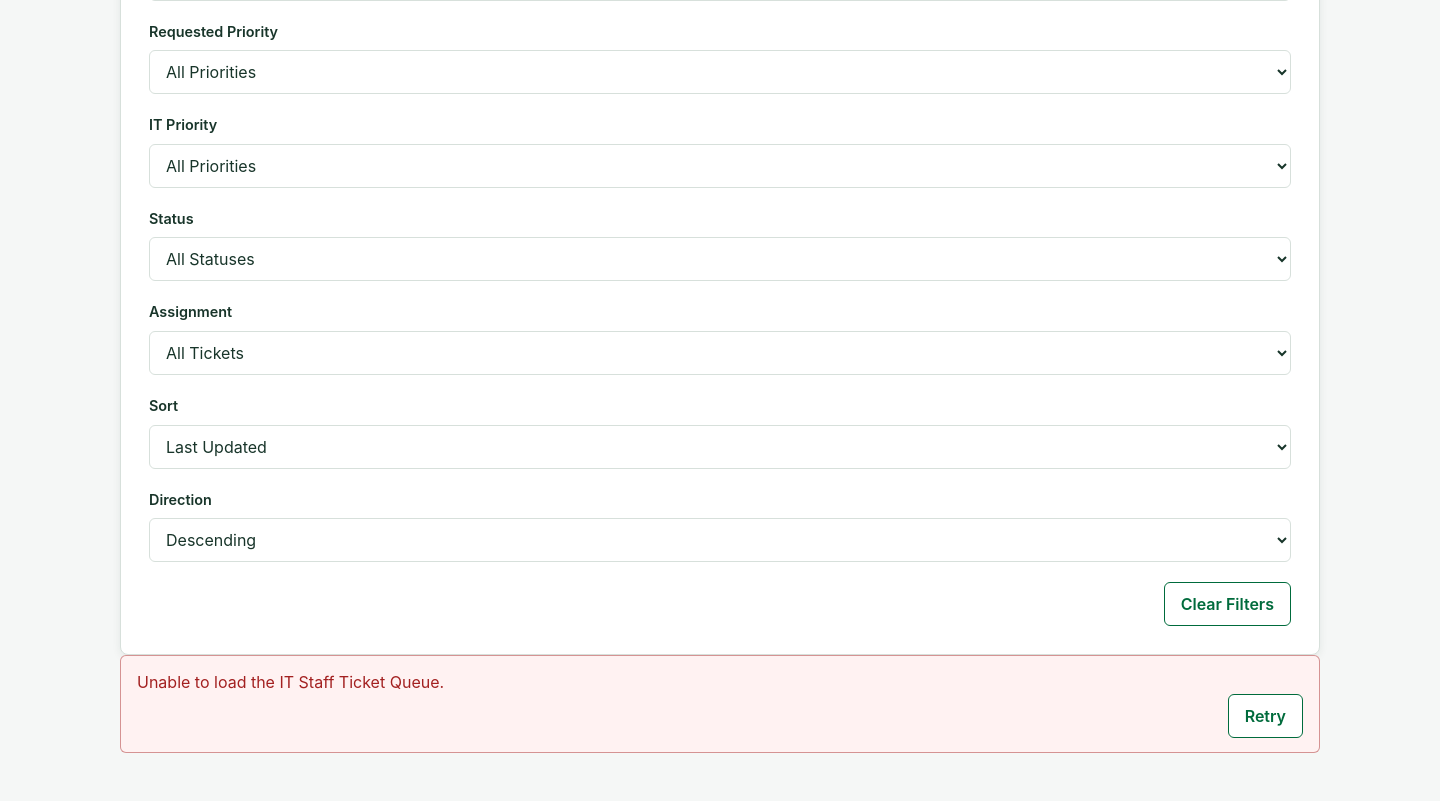
Test case: StaffTicketQueue › displays safe failure feedback and retries
The image size is (1440, 801).
(page scrolled)
Expected: the text "Unable to load the IT Staff Ticket Queue." is shown, [137,672,444,692]
What coordinates should you click on to do the following:
click the button "Retry"
I would click on:
 (1265, 716)
Its box is [1228,694,1303,738].
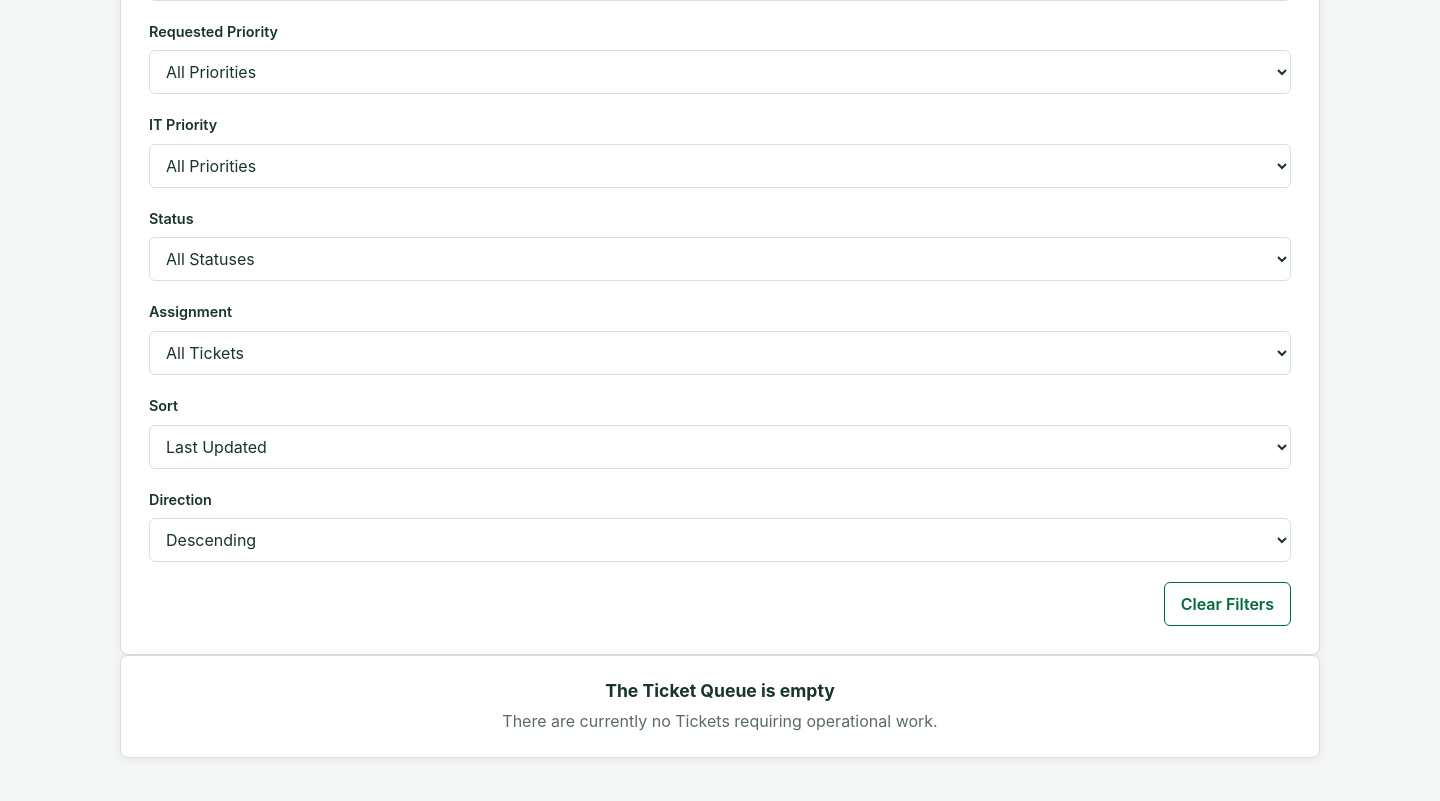
Expected: the heading "The Ticket Queue is empty" is shown, [605,680,835,701]
